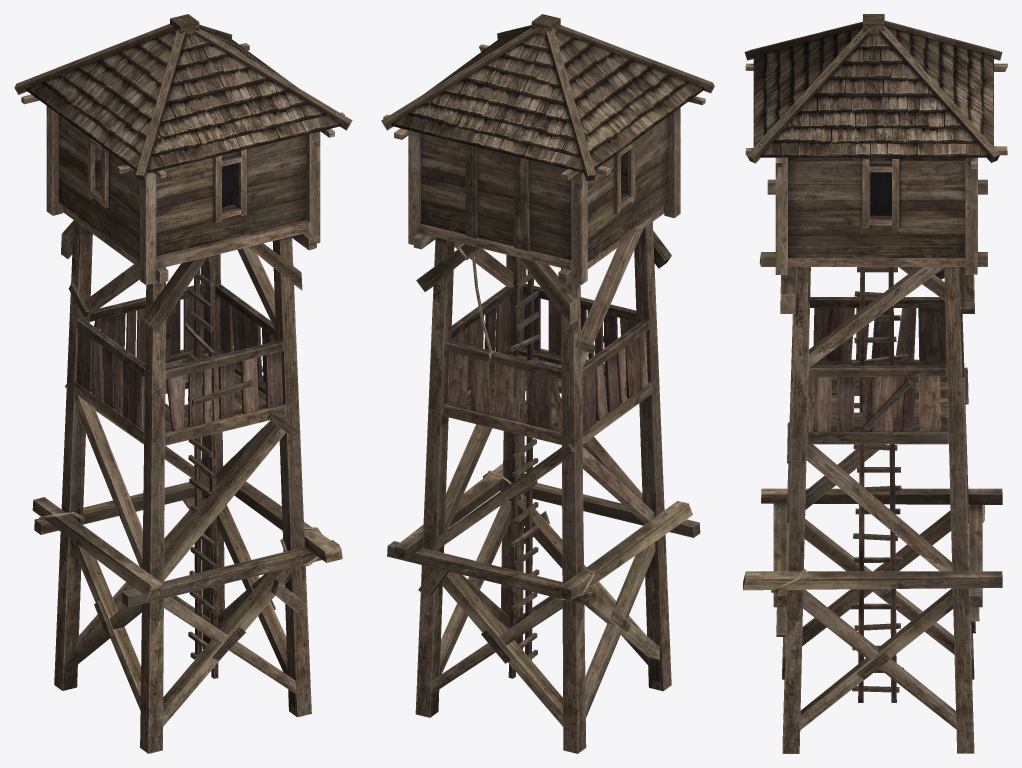
File: archeryTower.dae
The picture shows the model from 3 angles, left to right: view 1: azimuth 30°, elevation 25°; view 2: azimuth 150°, elevation 25°; view 3: azimuth 270°, elevation 25°; orthographic projection. The views are drawn at different scales.
Visible parts, largest first — view 1: archeryTower; view 2: archeryTower; view 3: archeryTower.
Part boxes in pixels (x1,y1,x2,y2): archeryTower: [14, 14, 352, 753]; archeryTower: [381, 14, 714, 753]; archeryTower: [743, 14, 1007, 753].
Size of the model in its own units: 6.09 by 17.61 by 6.09.
1 material, 1 textured.
